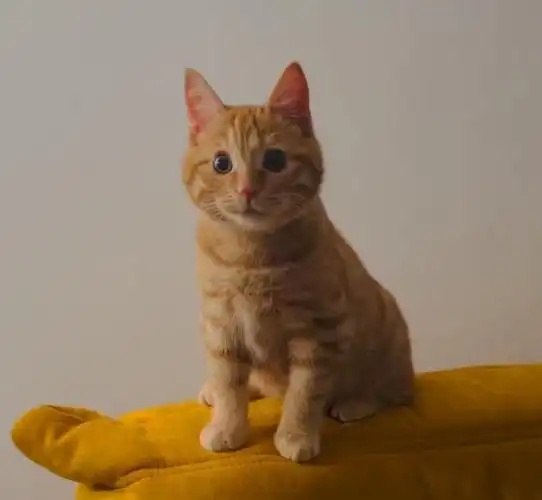橘猫: (183, 63, 320, 263)
